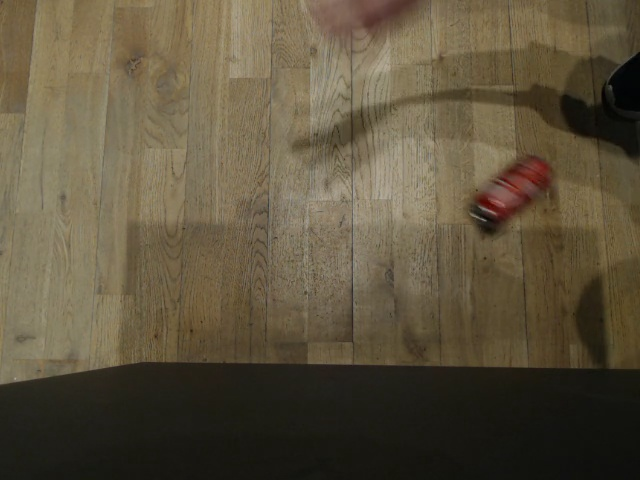cola: (463, 150, 553, 232)
